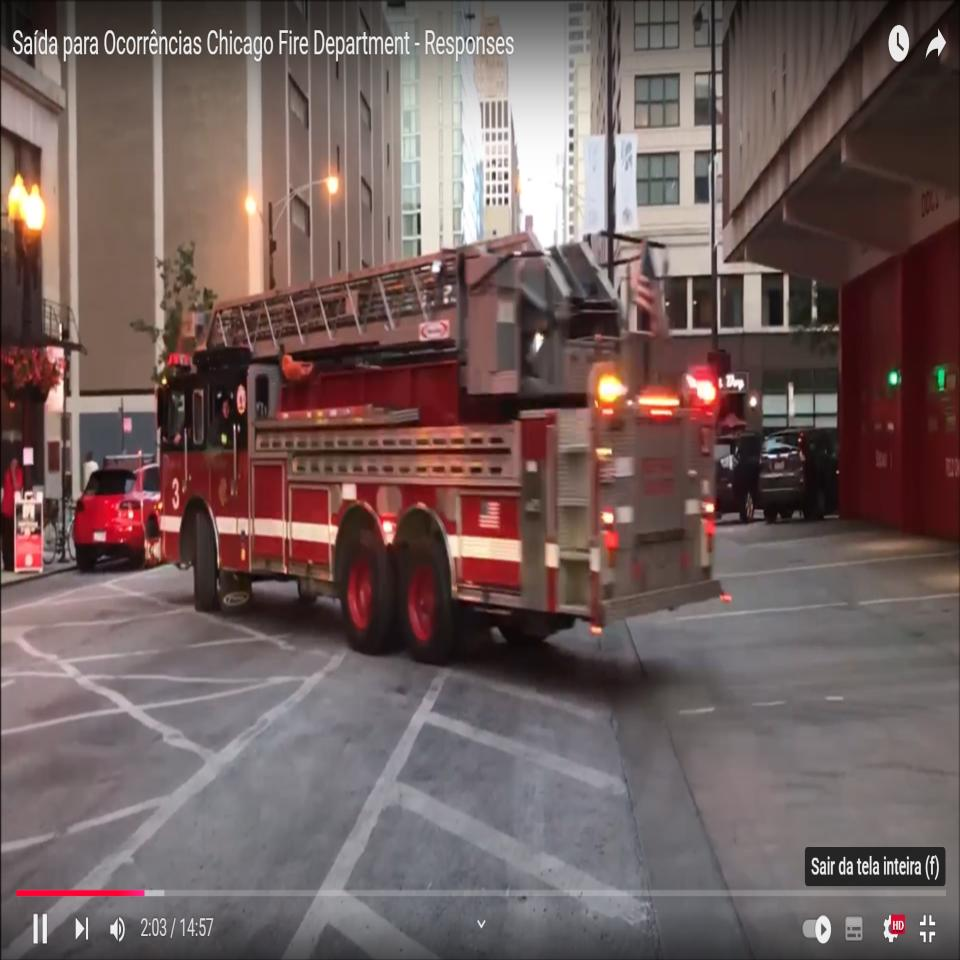viatura: (154, 222, 726, 664)
